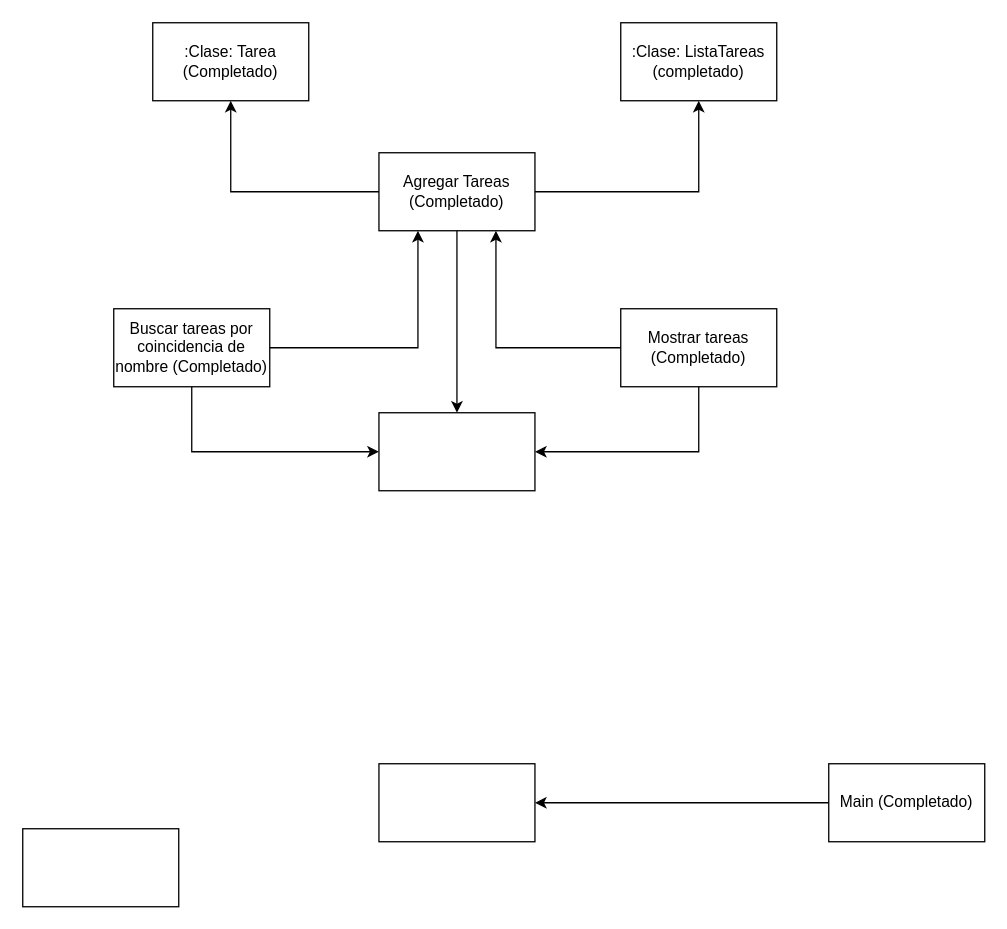
The diagram is 1007 pixels wide and 929 high, and some of its shapes have lost their labels. Each missing label, with the centre of its shape:
Editar Tareas: the point at 100,867
Menu (En proceso): the point at 456,802
Utilidades (En proceso creo): the point at 456,451
